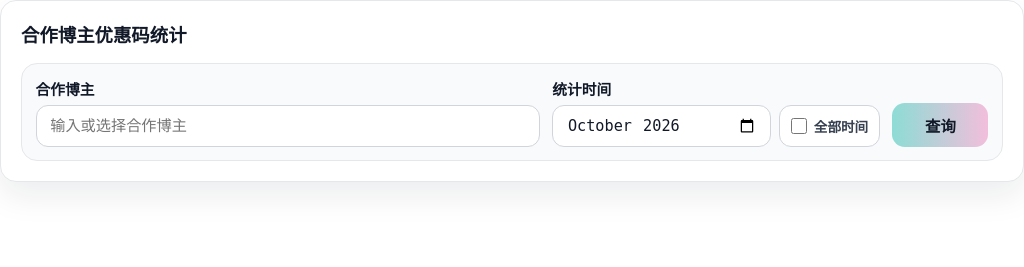
Test: PromotionCampaignReportCard › renders the empty result message
Type "无人兑换" into the dropdown labelled "合作博主". click: (288, 126)
box: [36,105,540,147]
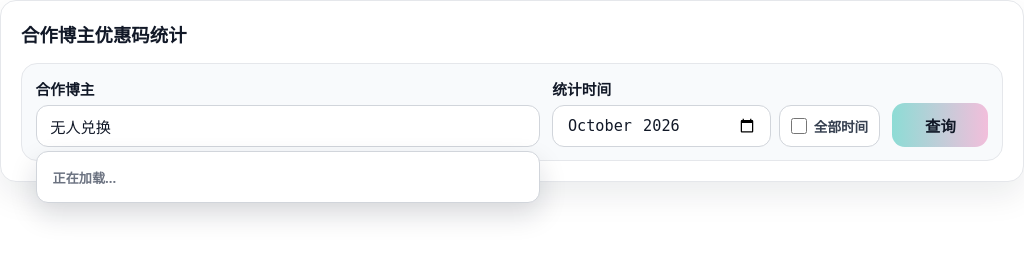
Click the button "查询". click: (940, 125)
box: [892,103,988,147]
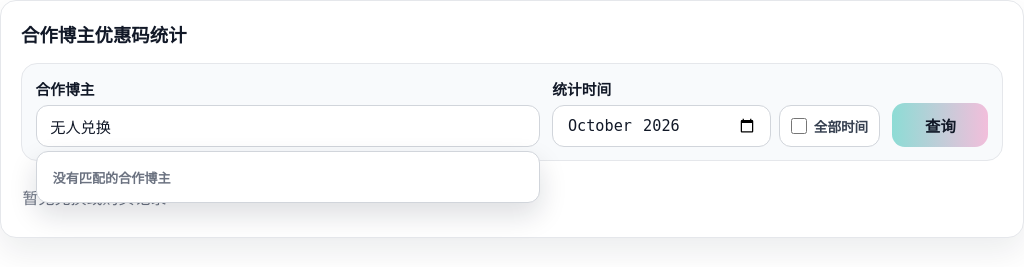
Now the text "暂无兑换或购买记录" is shown, box [23,187,167,209]
